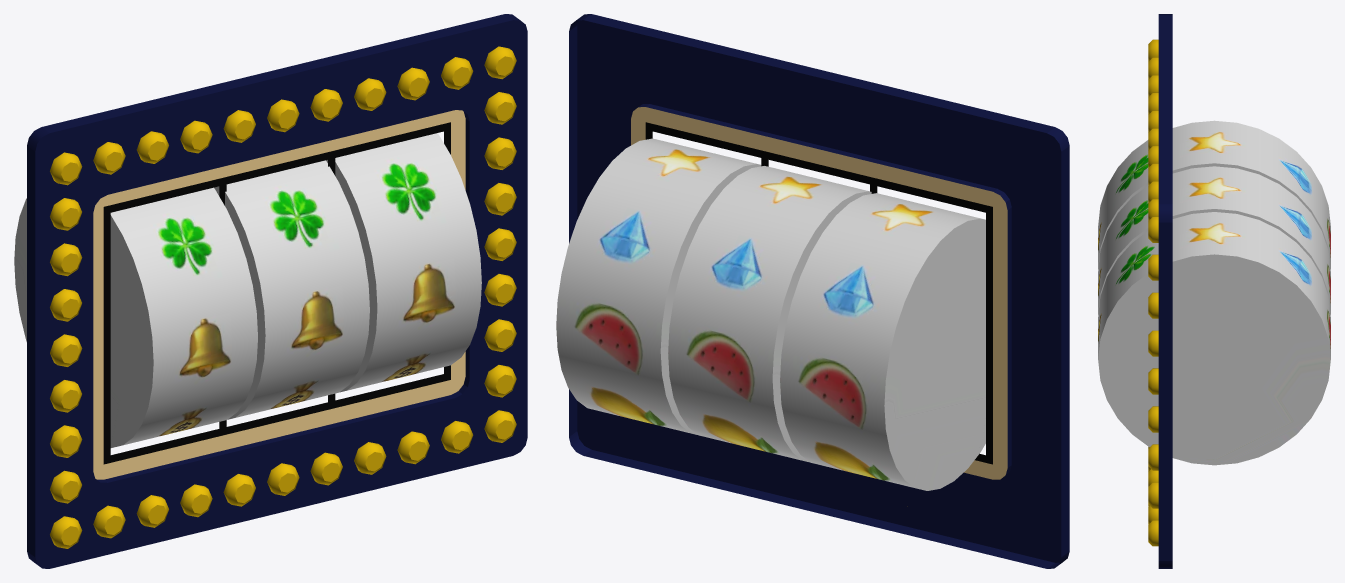
Rendered from reels-box.glb.
3 views of the same model, side by side, from view 1: azimuth 30°, elevation 25°; view 2: azimuth 150°, elevation 25°; view 3: azimuth 270°, elevation 25° (orthographic). The views are drawn at different scales.
Parts seen in each view (by area): view 1: box, reel-1, lights, reel-3, reel-2; view 2: box, reel-1, reel-3, reel-2; view 3: reel-3, reel-1, reel-2, box, lights.
Boxes of the visible parts, x1,y1,x2,y2 form: box: (27, 14, 527, 568); reel-1: (14, 187, 257, 447); lights: (50, 46, 516, 548); reel-3: (326, 133, 481, 392); reel-2: (214, 160, 369, 419); box: (569, 14, 1069, 568); reel-1: (780, 193, 985, 490); reel-3: (556, 138, 761, 435); reel-2: (668, 166, 871, 462); reel-3: (1098, 212, 1330, 465); reel-1: (1098, 120, 1330, 268); reel-2: (1098, 166, 1330, 314); box: (1158, 14, 1172, 568); lights: (1148, 39, 1158, 546).
Size of the model in its own units: 0.34 by 0.2875 by 0.1668.
Materials: 40 (1 with a texture image).
